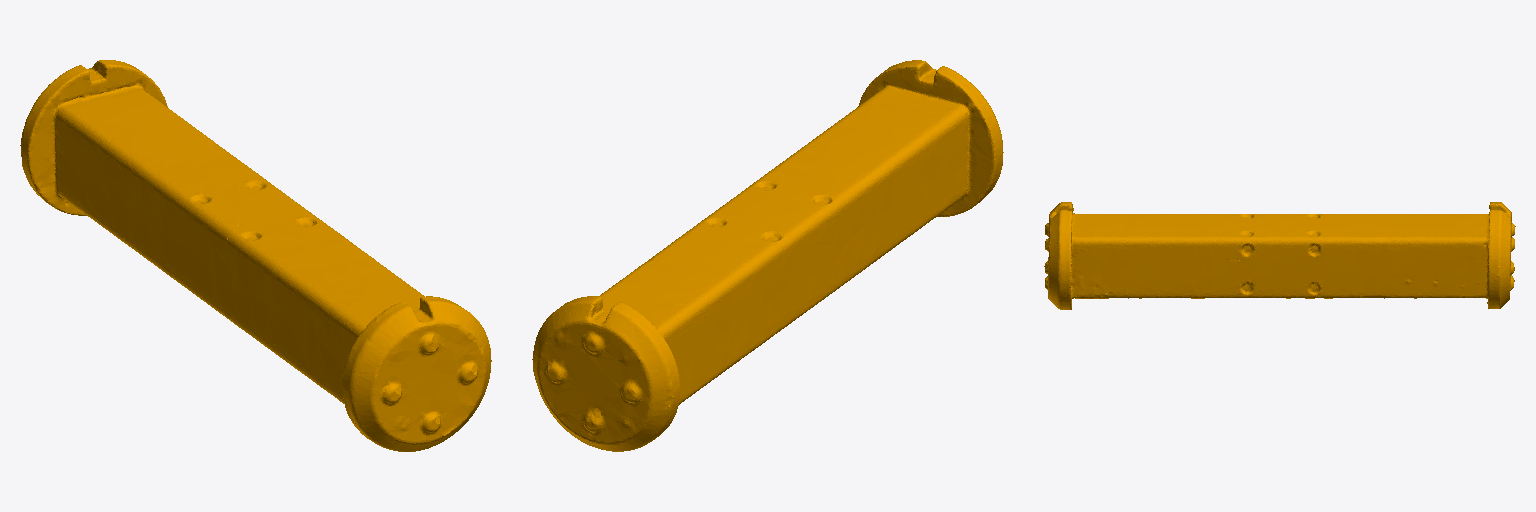
robot.urdf — gbeam_link:
<robot name="gbeam_link">
  <link name="gbeam_link">
    <visual>
      <geometry>
        <mesh filename="package://gbeam_model/meshes/gbeam_link_50k.dae"/>
        <!--<box size="0.05 0.3 0.05"/>-->
      </geometry>
      <!--<material name="white">-->
        <!--<color rgba="1 1 1 1"/>-->
      <!--</material>-->
    </visual>
  </link>
</robot>

--- Facts derived from the render (not from the file) ---
3 views of the same robot in one strip: view 1: azimuth 30°, elevation 25°; view 2: azimuth 150°, elevation 25°; view 3: azimuth 270°, elevation 25° (orthographic).
Robot: gbeam_link — 1 links, 0 joints (none); root link gbeam_link; default pose: every joint at zero.
Visible links, largest first — view 1: gbeam_link; view 2: gbeam_link; view 3: gbeam_link.
Link boxes in pixels (<box>): gbeam_link: <box>20,60,491,451</box>; gbeam_link: <box>532,60,1003,451</box>; gbeam_link: <box>1044,202,1515,309</box>.
Size in the robot's own frame: 0.0563 by 0.2445 by 0.0562 metres.
1 mesh visuals loaded from 1 distinct referenced files (1 Collada DAE).